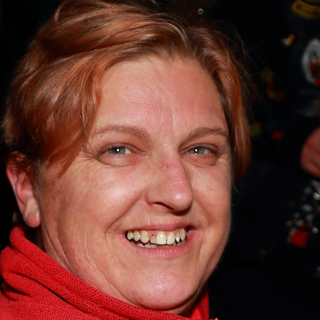eye: (95, 139, 143, 164), (179, 139, 221, 164)
